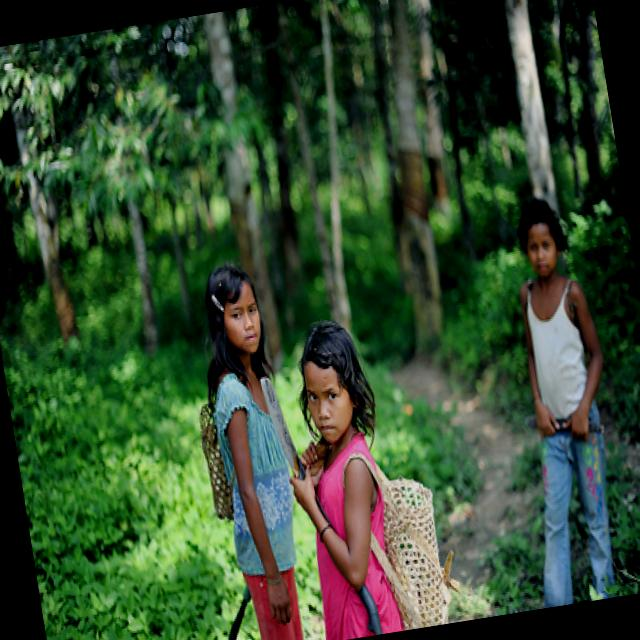Person: (476, 180, 640, 609), (167, 221, 321, 640), (266, 298, 413, 640)
